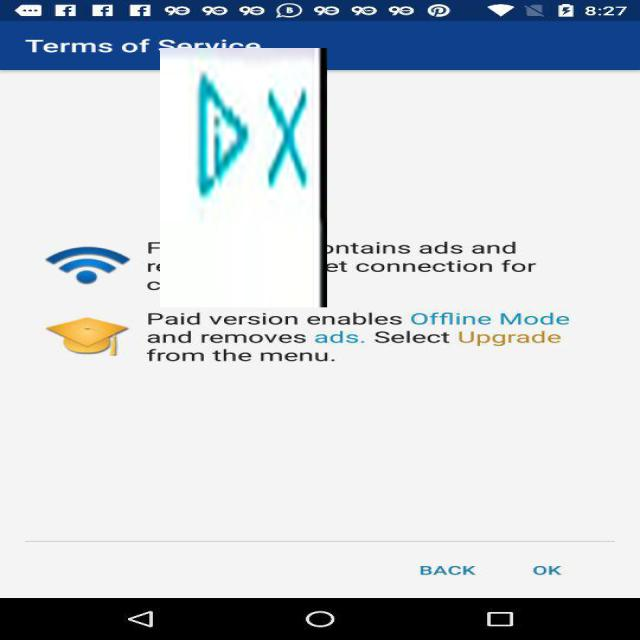sneaking: (160, 48, 327, 307)
